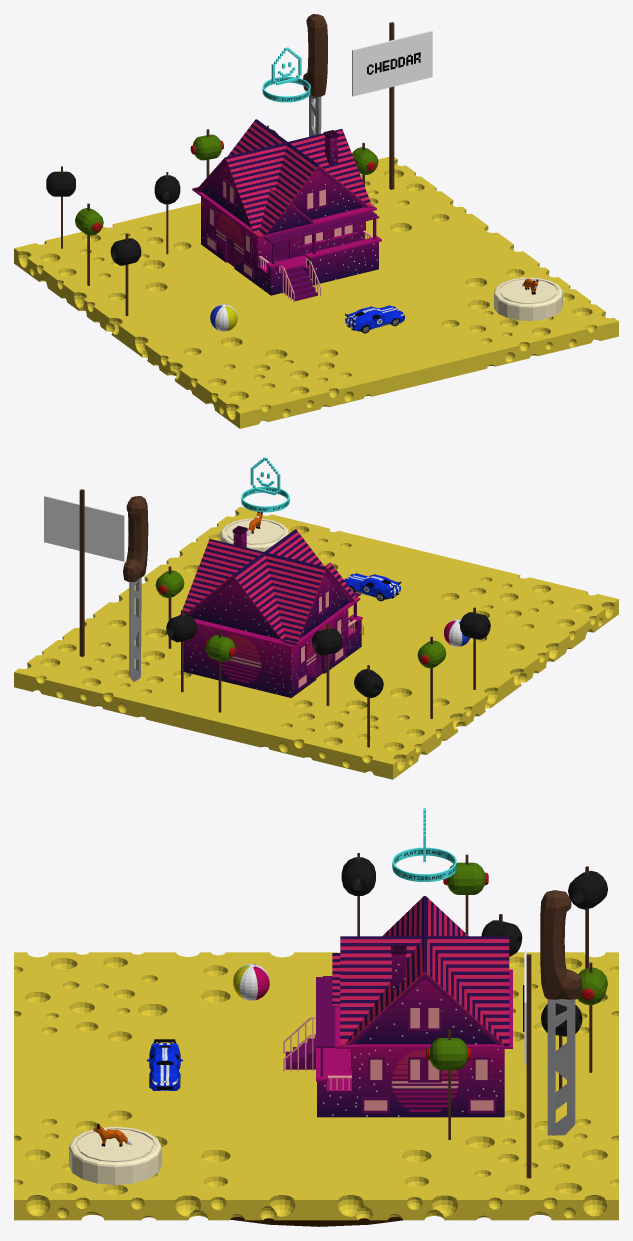
3 renders of one model, top to bottom at view 1: azimuth 30°, elevation 25°; view 2: azimuth 150°, elevation 25°; view 3: azimuth 270°, elevation 25°, orthographic. The views are drawn at different scales.
Parts seen in each view (by area): view 1: Cube.022, Cube.156, Cube.023, Cylinder.016, Cube.024, VEHICLES_RACING_CAR, TYPE_PREMIUM, Sphere.017, Sphere.016, Sphere.020, Sphere.018, Sphere.022 (+2 smaller); view 2: Cube.022, Cube.156, Cube.023, Cube.024, Cylinder.016, VEHICLES_RACING_CAR, TYPE_PREMIUM, Sphere.020, Sphere.022, Sphere.017, Sphere.021, Sphere.016 (+3 smaller); view 3: Cube.022, Cube.156, Cube.024, Cylinder.016, Cube.023, VEHICLES_RACING_CAR, Sphere.019, Sphere.016, Sphere.018, TYPE_PREMIUM, Sphere.017, Sphere.022 (+4 smaller).
Boxes of the visible parts, left/top/right/bottom form: Cube.022: left=14, top=157, right=618, bottom=428; Cube.156: left=192, top=119, right=381, bottom=302; Cube.023: left=352, top=22, right=432, bottom=189; Cylinder.016: left=494, top=277, right=562, bottom=320; Cube.024: left=303, top=14, right=327, bottom=136; VEHICLES_RACING_CAR: left=345, top=305, right=404, bottom=333; TYPE_PREMIUM: left=262, top=47, right=310, bottom=102; Sphere.017: left=110, top=233, right=141, bottom=316; Sphere.016: left=46, top=166, right=75, bottom=248; Sphere.020: left=154, top=172, right=180, bottom=254; Sphere.018: left=75, top=203, right=103, bottom=285; Sphere.022: left=190, top=129, right=223, bottom=177; Cube.022: left=14, top=506, right=618, bottom=779; Cube.156: left=179, top=525, right=363, bottom=697; Cube.023: left=44, top=489, right=124, bottom=656; Cube.024: left=123, top=496, right=148, bottom=681; Cylinder.016: left=220, top=518, right=288, bottom=551; VEHICLES_RACING_CAR: left=344, top=573, right=401, bottom=601; TYPE_PREMIUM: left=241, top=457, right=289, bottom=512; Sphere.020: left=311, top=623, right=342, bottom=705; Sphere.022: left=205, top=630, right=235, bottom=712; Sphere.017: left=460, top=607, right=490, bottom=689; Sphere.021: left=166, top=610, right=196, bottom=692; Sphere.016: left=354, top=665, right=383, bottom=747; Cube.022: left=14, top=952, right=618, bottom=1220; Cube.156: left=283, top=896, right=512, bottom=1117; Cube.024: left=540, top=890, right=582, bottom=1135; Cylinder.016: left=69, top=1126, right=161, bottom=1184; Cube.023: left=523, top=950, right=531, bottom=1178; VEHICLES_RACING_CAR: left=146, top=1039, right=182, bottom=1090; Sphere.019: left=426, top=1029, right=471, bottom=1139; Sphere.016: left=568, top=866, right=607, bottom=968; Sphere.018: left=443, top=854, right=488, bottom=934; TYPE_PREMIUM: left=392, top=808, right=456, bottom=881; Sphere.017: left=341, top=853, right=375, bottom=936; Sphere.022: left=577, top=962, right=607, bottom=1072.
Bounding box in the file's own units: 3917 × 2290 × 4000.
Materials: 40 (6 with a texture image).
